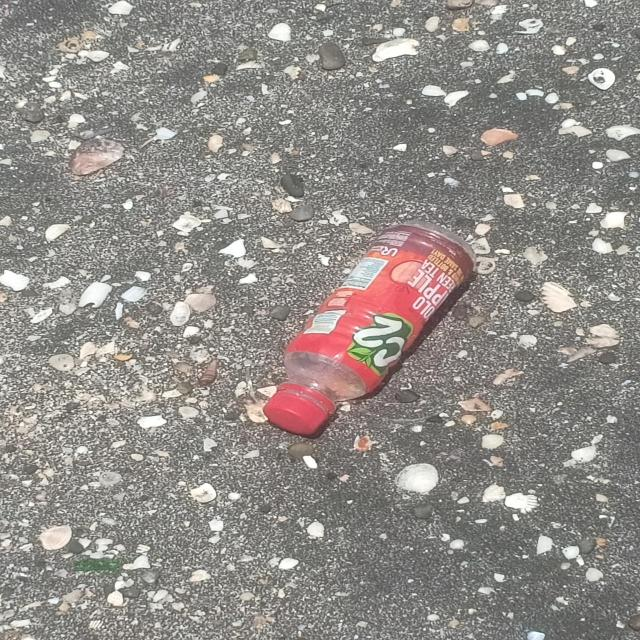litter: (260, 219, 480, 436)
